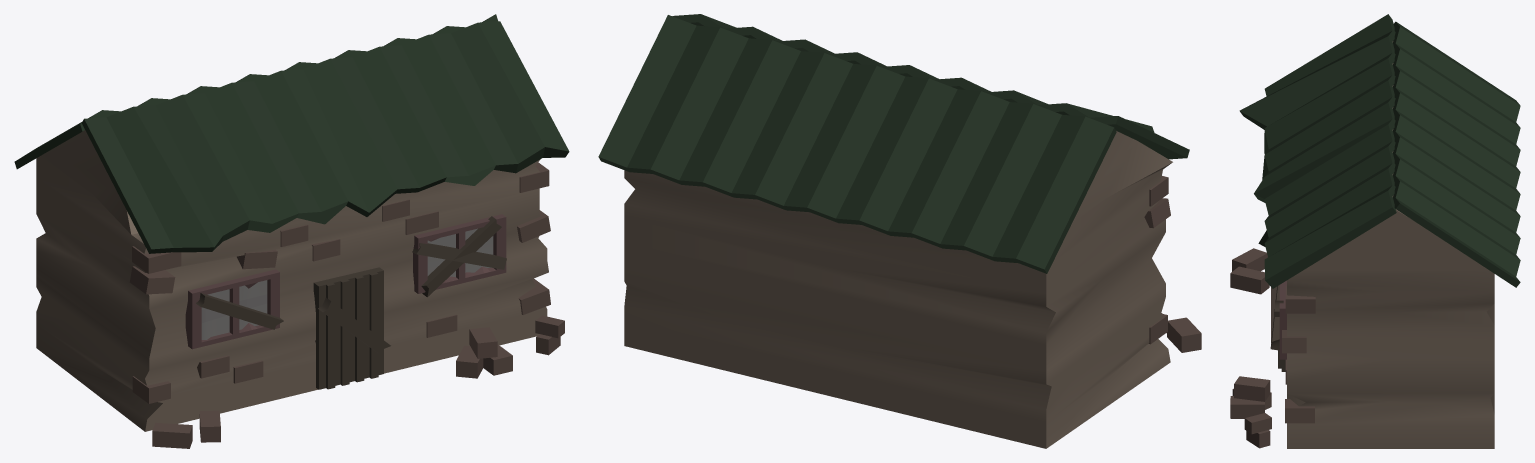
The model's file is WIDE HOUSE DAMAGED green roof.fbx.
3 views of the same model, side by side, from view 1: azimuth 30°, elevation 25°; view 2: azimuth 150°, elevation 25°; view 3: azimuth 270°, elevation 25° (orthographic). The views are drawn at different scales.
Parts seen in each view (by area): view 1: pCube1, pCube2, pCube4, pCube5, pCube6, pCube3, pCube36, pCube35, pCube37, pCube34, pCube27, pCube11 (+14 smaller); view 2: pCube1, pCube3, pCube2, pCube27; view 3: pCube1, pCube2, pCube3, pCube28, pCube30, pCube31, pCube12, pCube16, pCube27, pCube14, pCube6, pCube33 (+2 smaller).
Boxes of the visible parts, box(x1,y1,x2,y2) form: pCube1: box(36, 130, 548, 431); pCube2: box(82, 21, 569, 253); pCube4: box(313, 267, 383, 389); pCube5: box(185, 269, 279, 349); pCube6: box(413, 214, 506, 293); pCube3: box(14, 14, 497, 169); pCube36: box(421, 216, 501, 297); pCube35: box(196, 293, 283, 329); pCube37: box(412, 243, 506, 269); pCube34: box(318, 297, 390, 353); pCube27: box(152, 422, 192, 448); pCube11: box(129, 266, 175, 294); pCube1: box(624, 131, 1172, 448); pCube3: box(598, 15, 1116, 273); pCube2: box(672, 14, 1189, 159); pCube27: box(1167, 317, 1201, 352); pCube1: box(1287, 41, 1494, 448); pCube2: box(1239, 14, 1396, 288); pCube3: box(1393, 21, 1520, 287); pCube28: box(1230, 266, 1269, 294); pCube30: box(1234, 376, 1270, 401); pCube31: box(1230, 396, 1264, 418); pCube12: box(1285, 399, 1314, 423); pCube16: box(1285, 286, 1315, 313); pCube27: box(1232, 248, 1267, 271); pCube14: box(1282, 330, 1306, 353); pCube6: box(1279, 280, 1286, 359); pCube33: box(1244, 413, 1271, 434).
Size of the model in its own units: 0.1493 by 0.0925 by 0.0965.
